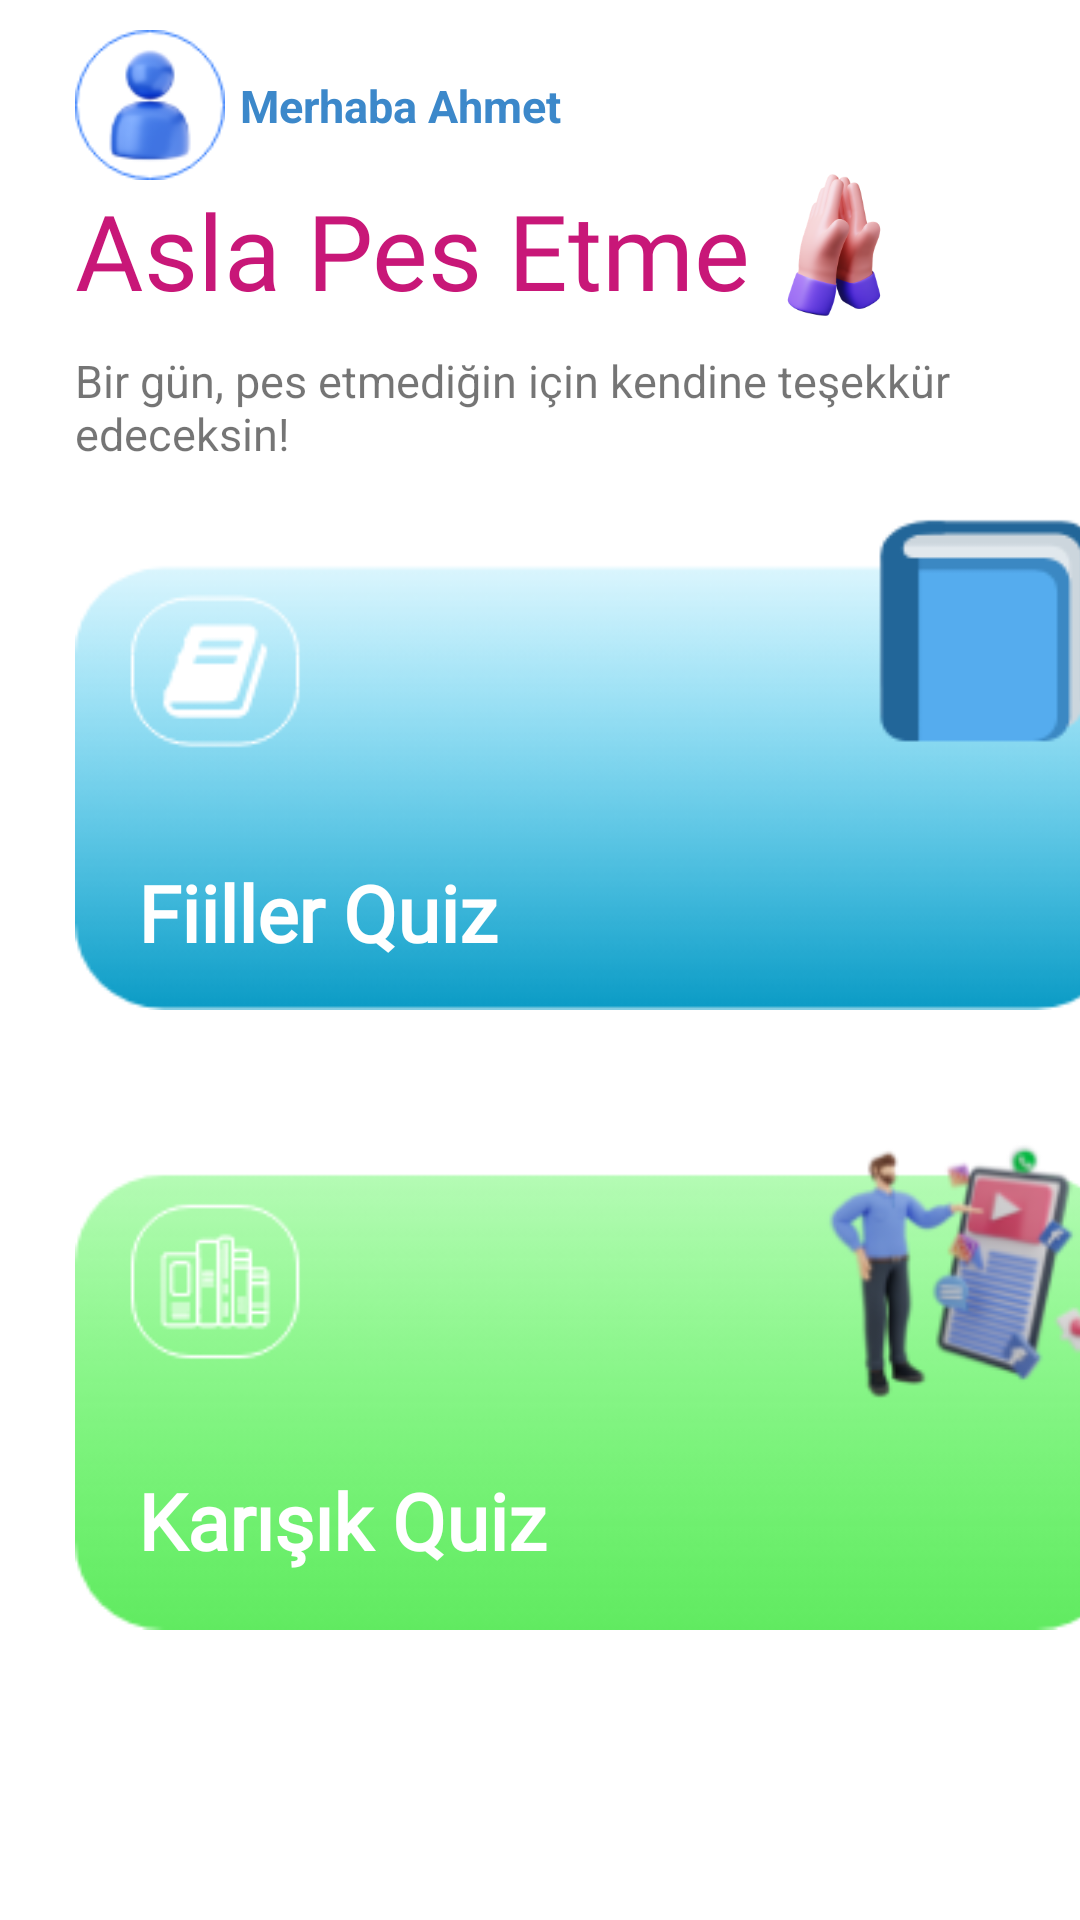

Named icons in this screenshot (1080*1920) and their centers, point (x, y):
person: point (150, 105)
